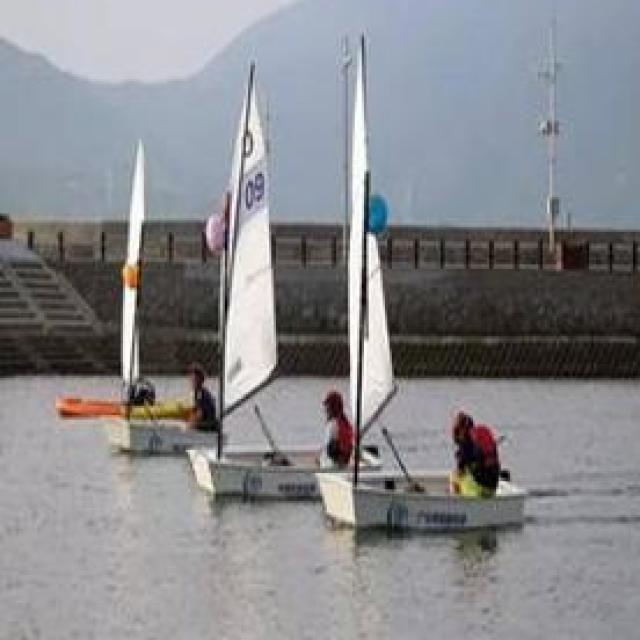sailboat: (307, 29, 538, 546), (192, 70, 370, 512), (57, 128, 205, 450)
